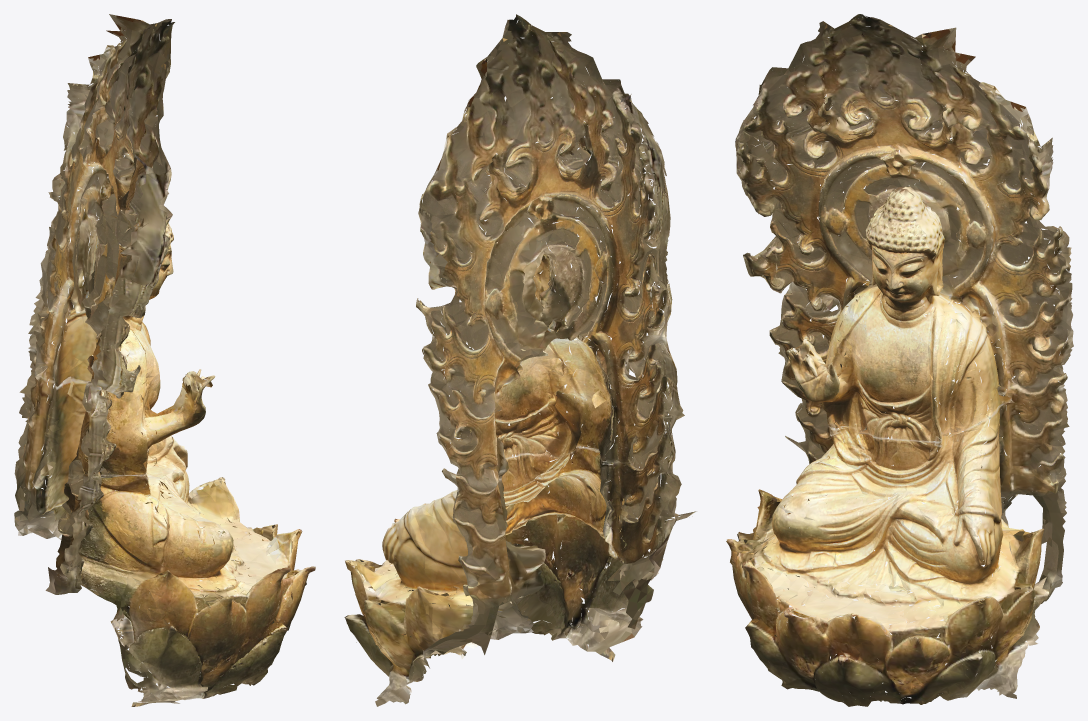
Rendered from shakyamuni-lod.glb.
3 renders of one model, left to right at view 1: azimuth 30°, elevation 25°; view 2: azimuth 150°, elevation 25°; view 3: azimuth 270°, elevation 25°, orthographic.
Parts seen in each view (by area): view 1: Object_4, Object_2, Object_6, Object_5, Object_3; view 2: Object_2, Object_6, Object_4, Object_3, Object_5; view 3: Object_2, Object_6, Object_5, Object_3, Object_4.
Boxes of the visible parts, x1,y1,x2,y2 form: Object_4: [32, 20, 315, 706]; Object_2: [16, 20, 315, 701]; Object_6: [31, 67, 293, 682]; Object_5: [40, 133, 301, 590]; Object_3: [14, 14, 289, 706]; Object_2: [344, 20, 681, 706]; Object_6: [345, 98, 676, 679]; Object_4: [350, 58, 696, 660]; Object_3: [346, 14, 676, 697]; Object_5: [345, 150, 678, 642]; Object_2: [727, 15, 1073, 706]; Object_6: [739, 65, 1071, 647]; Object_5: [746, 135, 1070, 664]; Object_3: [732, 14, 1068, 706]; Object_4: [726, 34, 1070, 693].
Bounding box in the file's own units: 4.12 × 9.27 × 4.46.
Materials: 4 (4 with a texture image).
